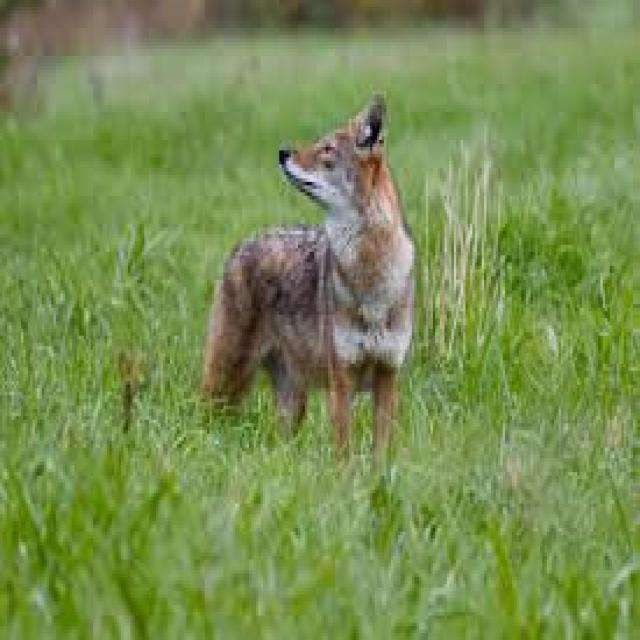Coyote: (205, 86, 426, 431)
